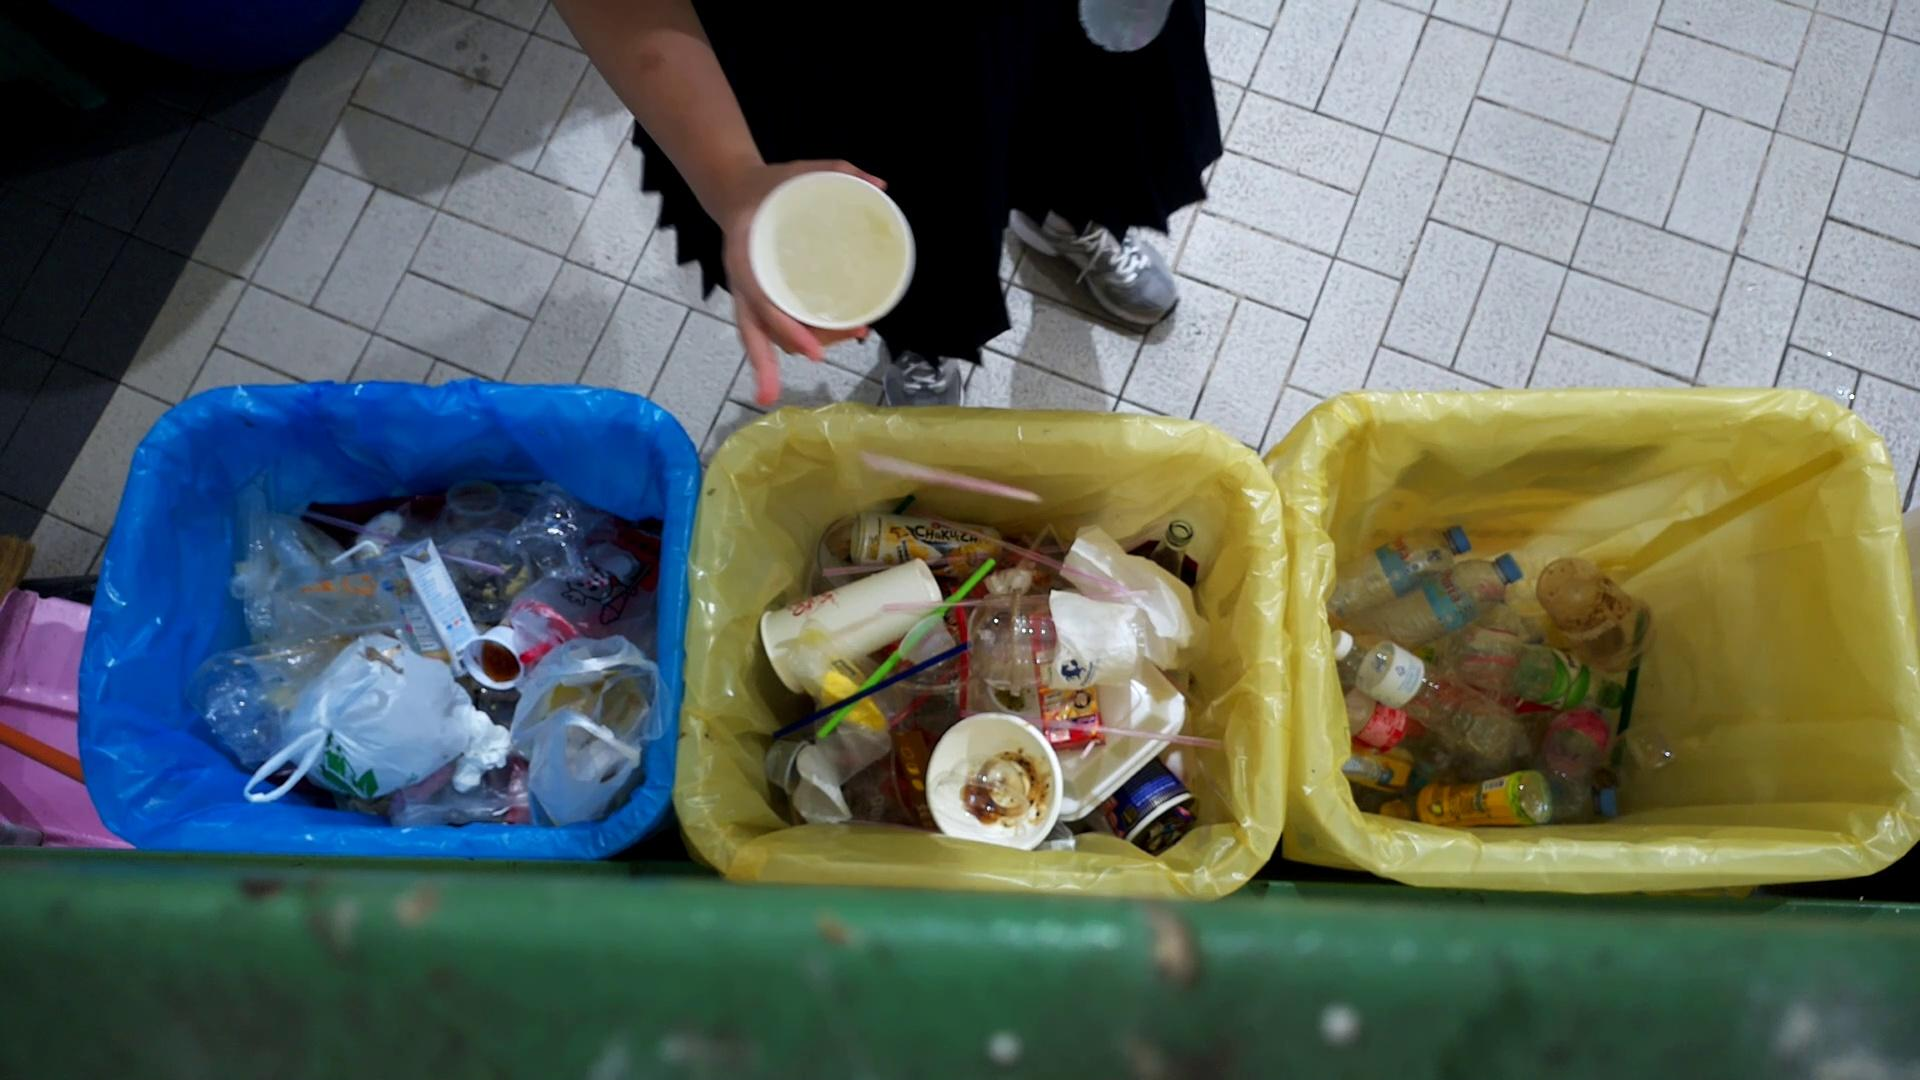can: (852, 510, 1006, 574)
filled plastic bag: (243, 630, 475, 806), (516, 634, 673, 829)
food container: (926, 715, 1064, 851), (464, 622, 526, 691)
milk carton: (364, 535, 477, 680)
plastic bottle: (1331, 628, 1530, 767), (1337, 553, 1524, 654), (1329, 522, 1474, 620), (1364, 771, 1556, 829)
plastic cup: (967, 591, 1147, 687), (1536, 556, 1658, 673), (934, 754, 1034, 829)
straw: (818, 559, 996, 742), (760, 641, 972, 750), (930, 514, 1134, 597), (861, 444, 1043, 504), (961, 711, 1220, 750)
tissue paper: (1051, 589, 1141, 691), (456, 704, 510, 796)
zero waste cup: (748, 169, 918, 330)
